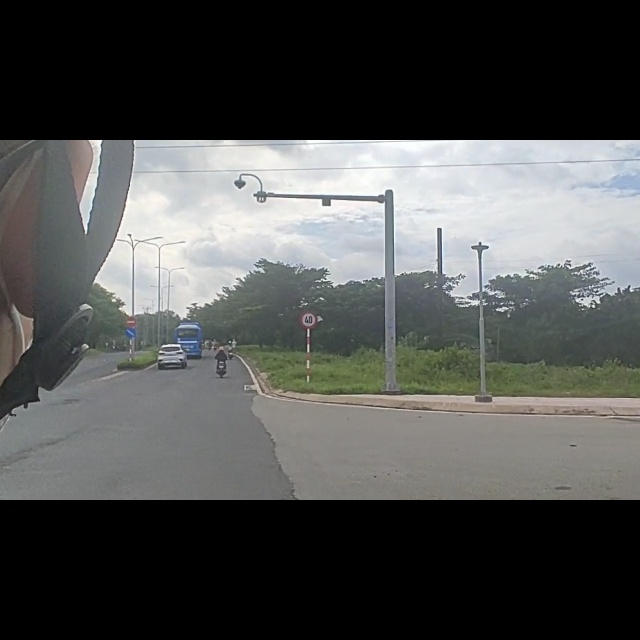bien_hieu_lenh: (300, 305, 317, 333), (123, 331, 137, 353), (125, 313, 138, 332)
